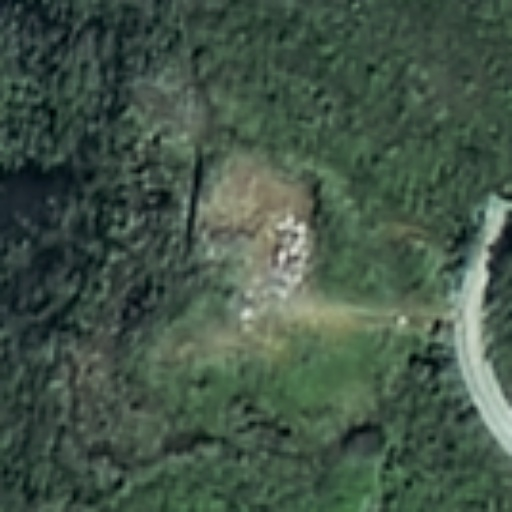landslide: (203, 148, 315, 323)
